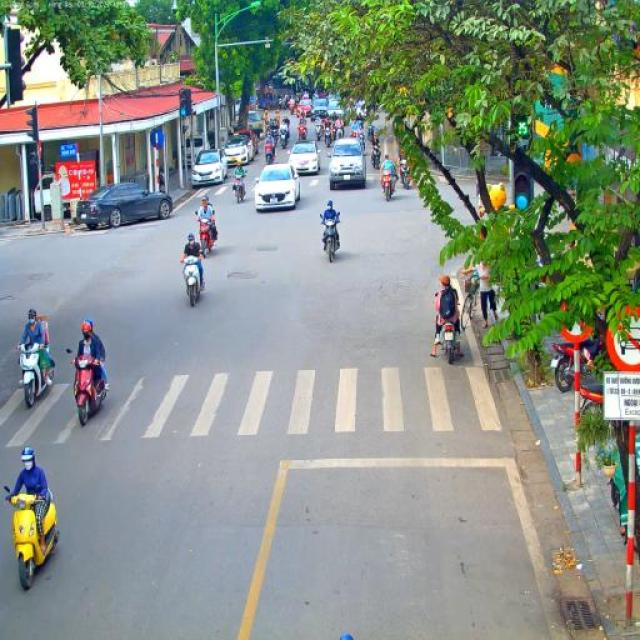car: (76, 181, 174, 230), (254, 162, 300, 212), (327, 138, 368, 190), (192, 148, 228, 187), (288, 139, 322, 177), (221, 136, 250, 168), (233, 130, 256, 158), (310, 96, 329, 119), (296, 100, 312, 120), (328, 101, 342, 122)
motorcycle: (3, 484, 61, 590), (66, 347, 110, 425), (550, 332, 605, 392), (17, 338, 54, 408), (181, 255, 205, 306), (195, 210, 217, 259), (320, 212, 340, 263), (439, 320, 461, 364), (582, 379, 603, 411), (380, 170, 396, 202), (399, 162, 412, 190), (234, 174, 246, 204), (370, 145, 381, 170), (265, 143, 277, 165), (278, 128, 288, 150), (322, 125, 332, 147), (358, 133, 367, 155), (368, 125, 377, 146), (272, 128, 280, 148), (315, 123, 323, 142), (262, 120, 270, 139), (334, 125, 344, 140), (298, 126, 306, 142), (282, 122, 290, 136), (289, 104, 295, 117)
truck: (30, 170, 95, 222), (238, 110, 264, 140)
